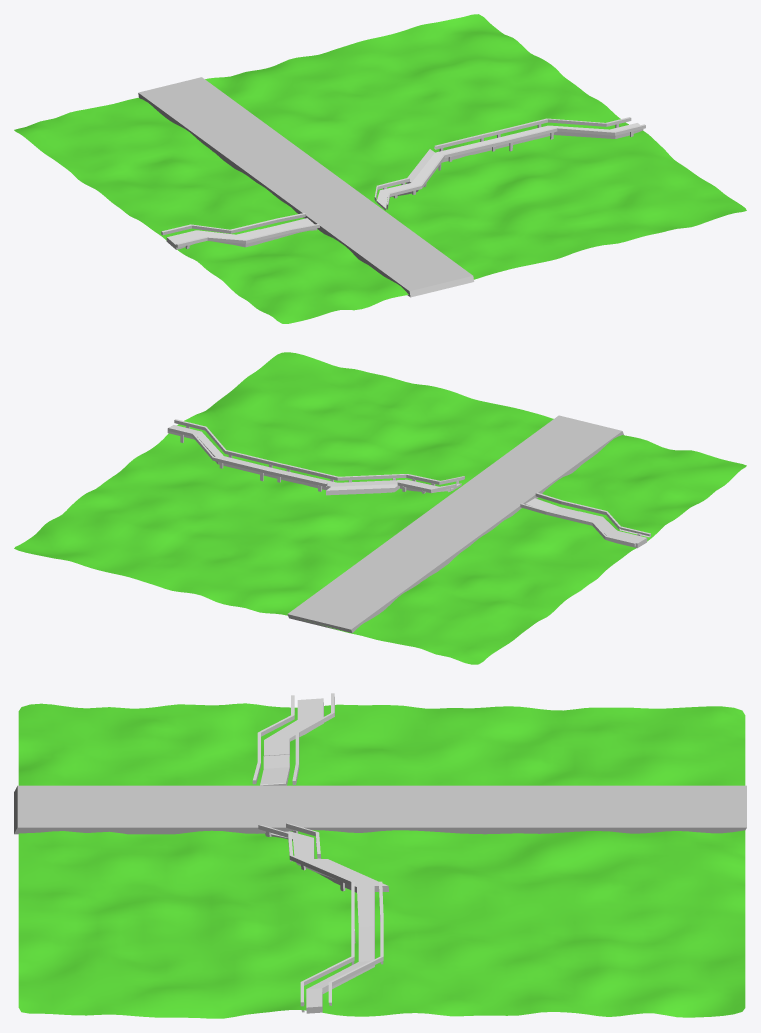
The model's file is parkgroundriver.dae.
The picture shows the model from 3 angles, top to bottom: view 1: azimuth 30°, elevation 25°; view 2: azimuth 150°, elevation 25°; view 3: azimuth 270°, elevation 25°; orthographic projection. The views are drawn at different scales.
Parts seen in each view (by area): view 1: Plane, Plane_002, Cube_003, Cube_025, Cube_001, Cube, Cube_002, Cube_003_001; view 2: Plane, Plane_002, Cube_003, Cube_025, Cube, Cube_001, Cube_003_001, Cube_002; view 3: Plane, Plane_002, Cube_025, Cube_001 (×2), Cube_003, Cube, Cube_002.
Boxes of the visible parts, x1=… form: Plane: x1=14, y1=14, x2=746, y2=323; Plane_002: x1=138, y1=77, x2=474, y2=297; Cube_003: x1=386, y1=117, x2=645, y2=207; Cube_025: x1=376, y1=123, x2=643, y2=209; Cube_001: x1=166, y1=229, x2=268, y2=249; Cube: x1=377, y1=145, x2=501, y2=210; Cube_002: x1=161, y1=213, x2=305, y2=235; Cube_003_001: x1=176, y1=223, x2=319, y2=247; Plane: x1=14, y1=352, x2=746, y2=664; Plane_002: x1=287, y1=415, x2=623, y2=633; Cube_003: x1=168, y1=419, x2=464, y2=486; Cube_025: x1=167, y1=425, x2=445, y2=495; Cube: x1=271, y1=469, x2=461, y2=494; Cube_001: x1=571, y1=511, x2=647, y2=548; Cube_003_001: x1=535, y1=492, x2=650, y2=537; Cube_002: x1=520, y1=503, x2=635, y2=546; Plane: x1=18, y1=703, x2=745, y2=1018; Plane_002: x1=14, y1=785, x2=746, y2=834; Cube_025: x1=265, y1=831, x2=388, y2=1013; Cube_001 (×2): x1=260, y1=698, x2=323, y2=785; Cube_003: x1=258, y1=825, x2=383, y2=1006; Cube: x1=271, y1=831, x2=388, y2=892; Cube_002: x1=292, y1=693, x2=334, y2=784.
Bounding box in the file's own units: 127 × 127 × 3.81.
